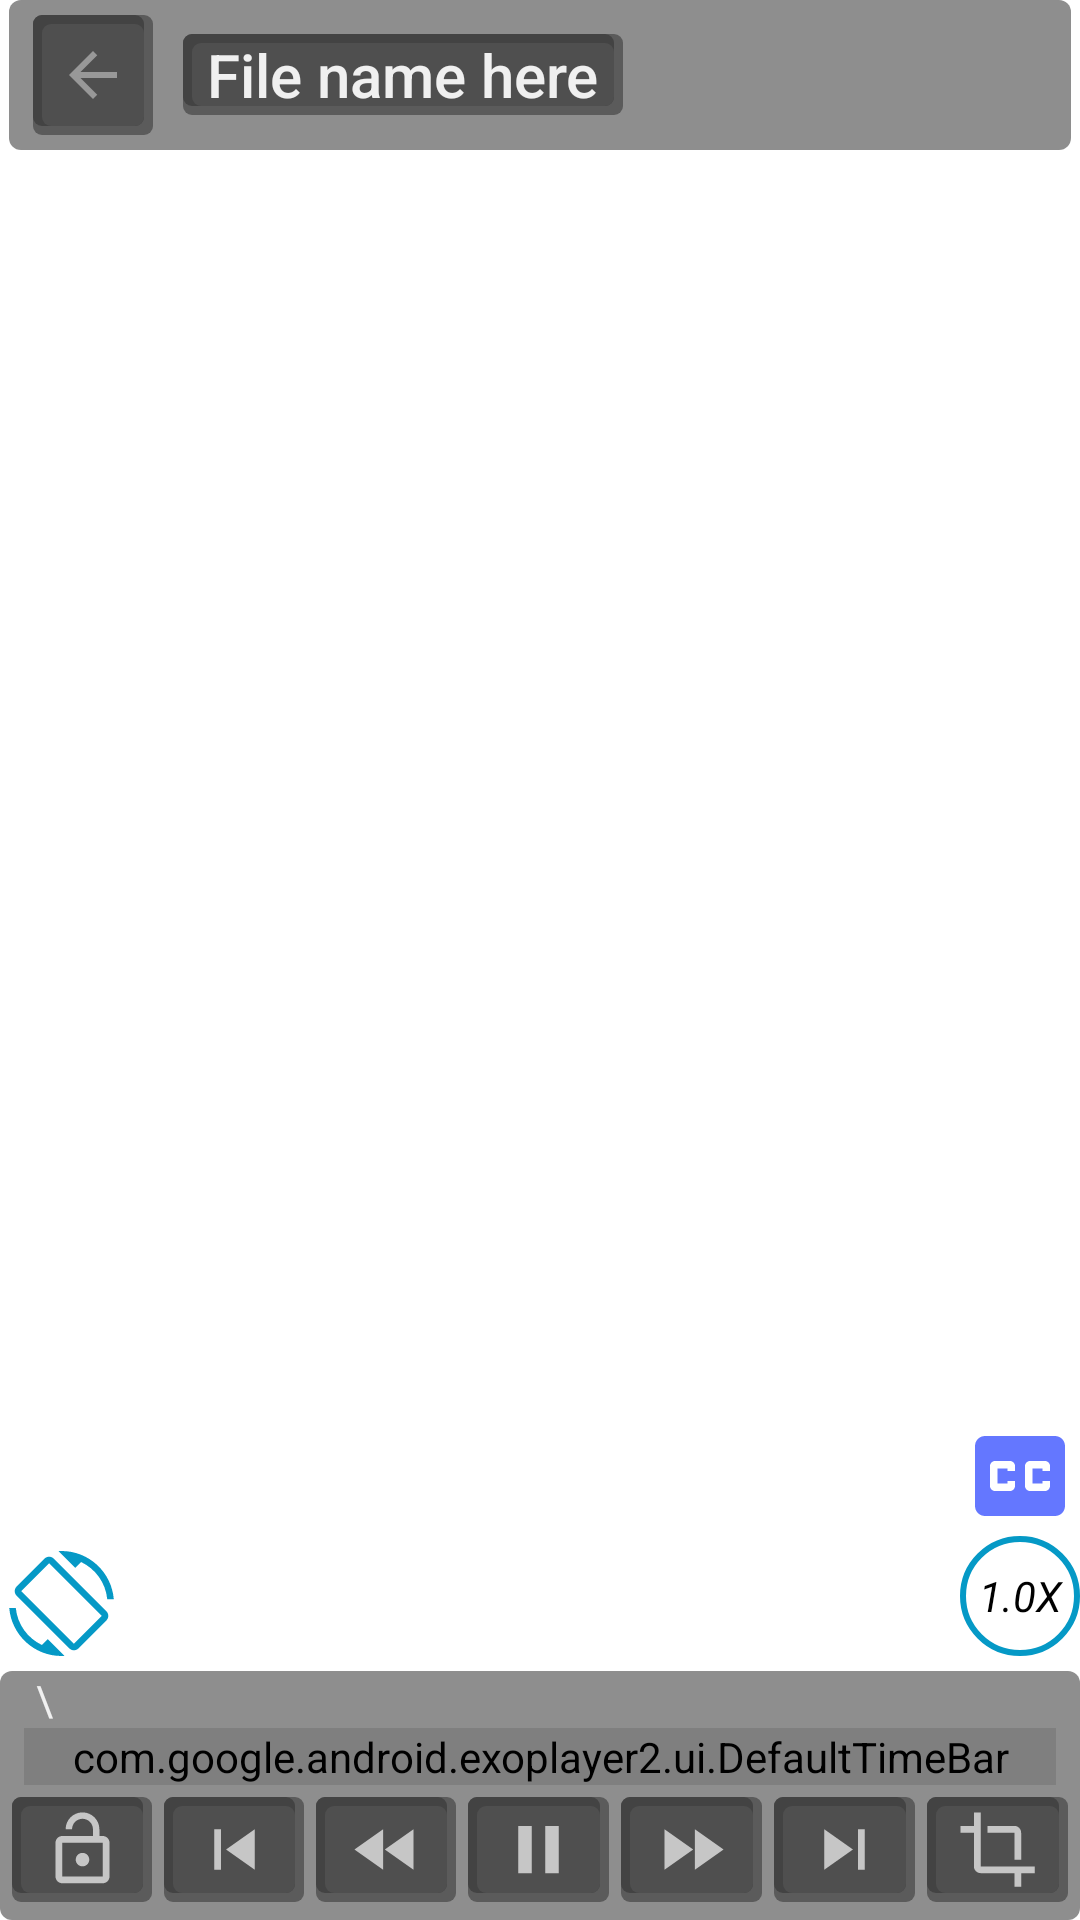

Icon bounding boxes for this 1080px×1920px phone screenshot, format rect(x1, y1, x2, y2):
backward: rect(316, 1797, 456, 1902)
caption: rect(975, 1436, 1065, 1516)
exit button: rect(33, 15, 153, 135)
forward: rect(621, 1797, 762, 1902)
Next: rect(774, 1797, 915, 1902)
pause: rect(468, 1797, 609, 1902)
prvious button: rect(164, 1797, 304, 1902)
rotate button: rect(9, 1551, 114, 1656)
unlock button: rect(12, 1797, 152, 1902)
